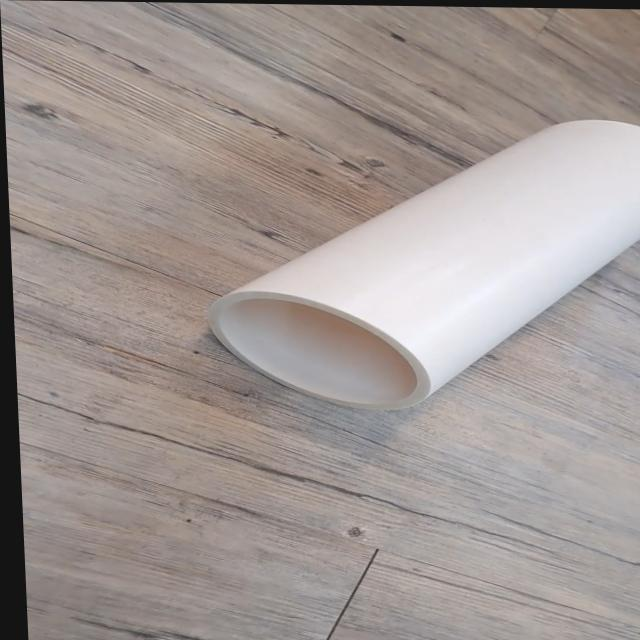CORAL: (179, 96, 640, 421)
